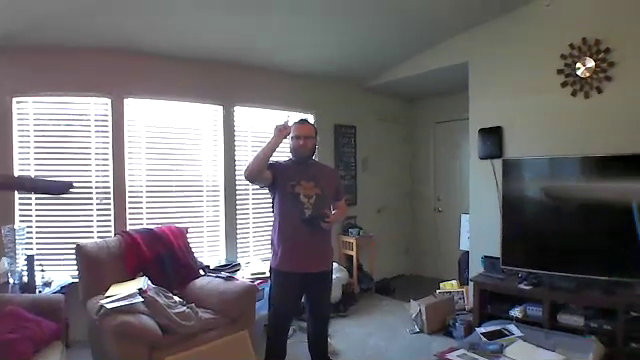up: (271, 113, 292, 139)
